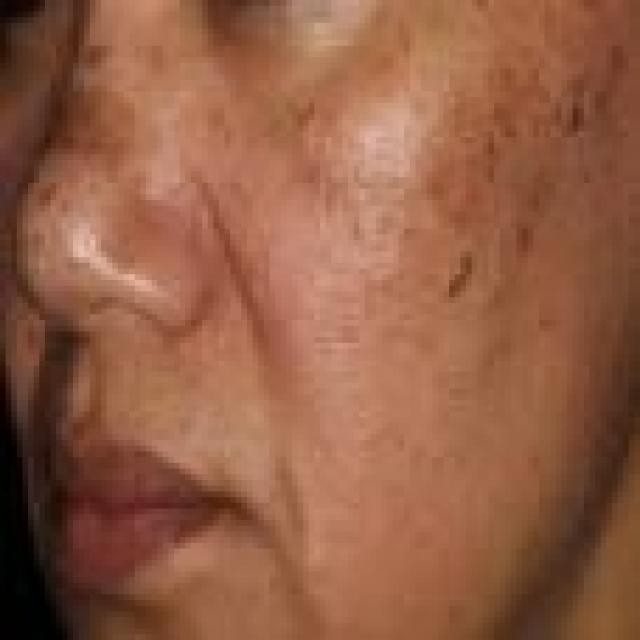Melasma: (434, 44, 634, 389), (43, 41, 139, 203)
